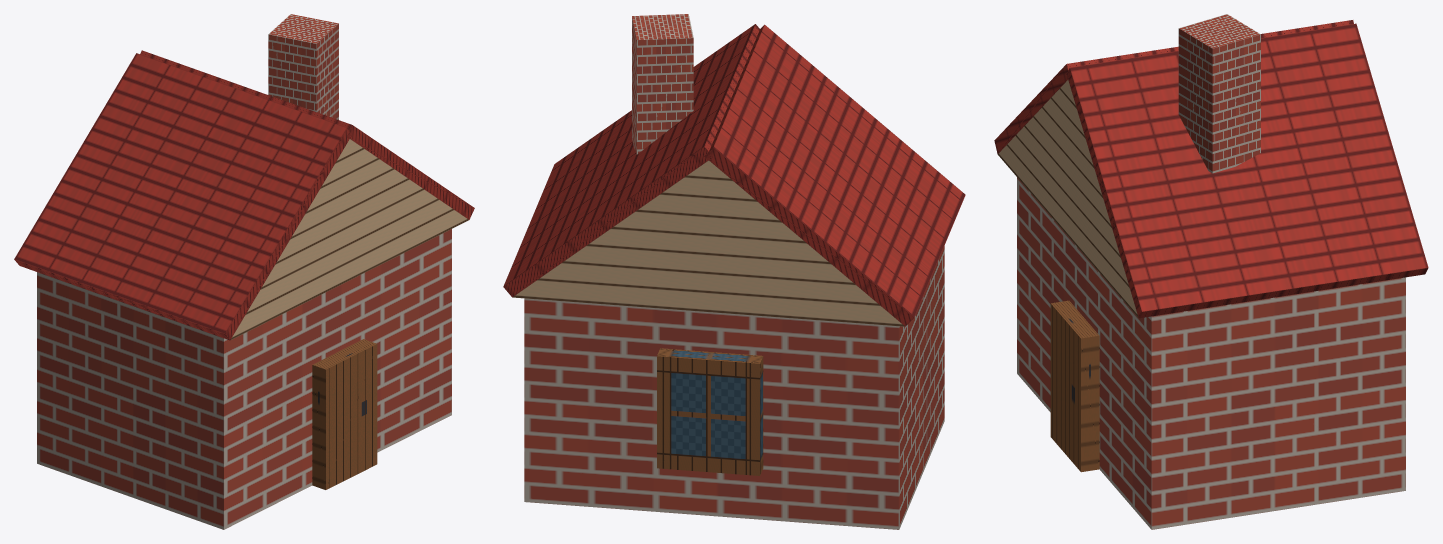
File: house.gltf
The picture shows the model from 3 angles, left to right: view 1: azimuth 30°, elevation 25°; view 2: azimuth 150°, elevation 25°; view 3: azimuth 270°, elevation 25°; orthographic projection. The views are drawn at different scales.
Parts seen in each view (by area): view 1: walls, roof_L, door, chimney, roof_R; view 2: walls, roof_L, roof_R, window, chimney; view 3: walls, roof_R, chimney, door, roof_L.
Part boxes in pixels (box(x1,y1,x2,y2)): walls: box(37, 139, 468, 529); roof_L: box(14, 53, 352, 340); door: box(312, 339, 377, 489); chimney: box(268, 14, 338, 119); roof_R: box(140, 50, 474, 219); walls: box(512, 160, 944, 529); roof_L: box(704, 24, 965, 326); roof_R: box(503, 24, 759, 297); window: box(657, 348, 763, 475); chimney: box(632, 14, 693, 154); walls: box(997, 80, 1405, 529); roof_R: box(1066, 23, 1428, 318); chimney: box(1178, 14, 1260, 173); door: box(1050, 300, 1099, 472); roof_L: box(994, 20, 1353, 153).
Bounding box in the file's own units: 1.04 × 0.9757 × 0.8826.
Materials: 5 (5 with a texture image).
